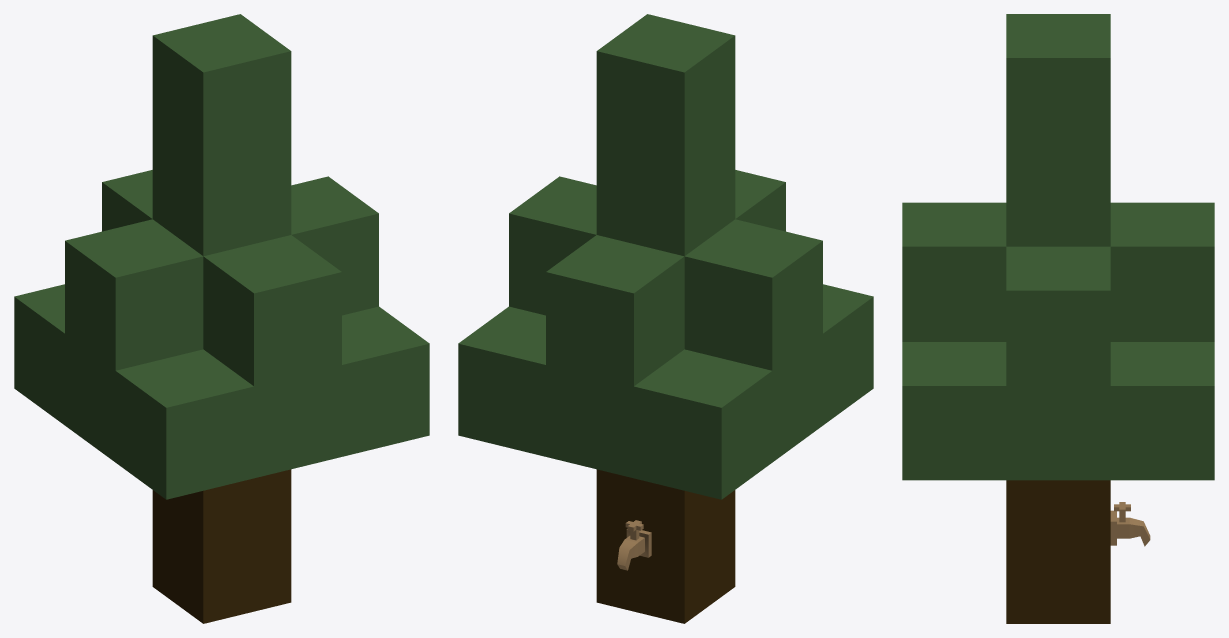
Rendered from RubberTree.fbx.
3 renders of one model, left to right at view 1: azimuth 30°, elevation 25°; view 2: azimuth 150°, elevation 25°; view 3: azimuth 270°, elevation 25°, orthographic. The views are drawn at different scales.
Parts seen in each view (by area): view 1: Leaves, Trunk; view 2: Leaves, Trunk, Tap; view 3: Leaves, Trunk, Tap.
Part boxes in pixels (x1,y1,x2,y2): Leaves: [14, 14, 429, 499]; Trunk: [152, 469, 291, 623]; Leaves: [458, 14, 873, 499]; Trunk: [596, 469, 735, 623]; Tap: [617, 520, 651, 570]; Leaves: [902, 14, 1214, 480]; Trunk: [1006, 480, 1110, 623]; Tap: [1110, 502, 1150, 546].
Bounding box in the file's own units: 300 × 600 × 300.
